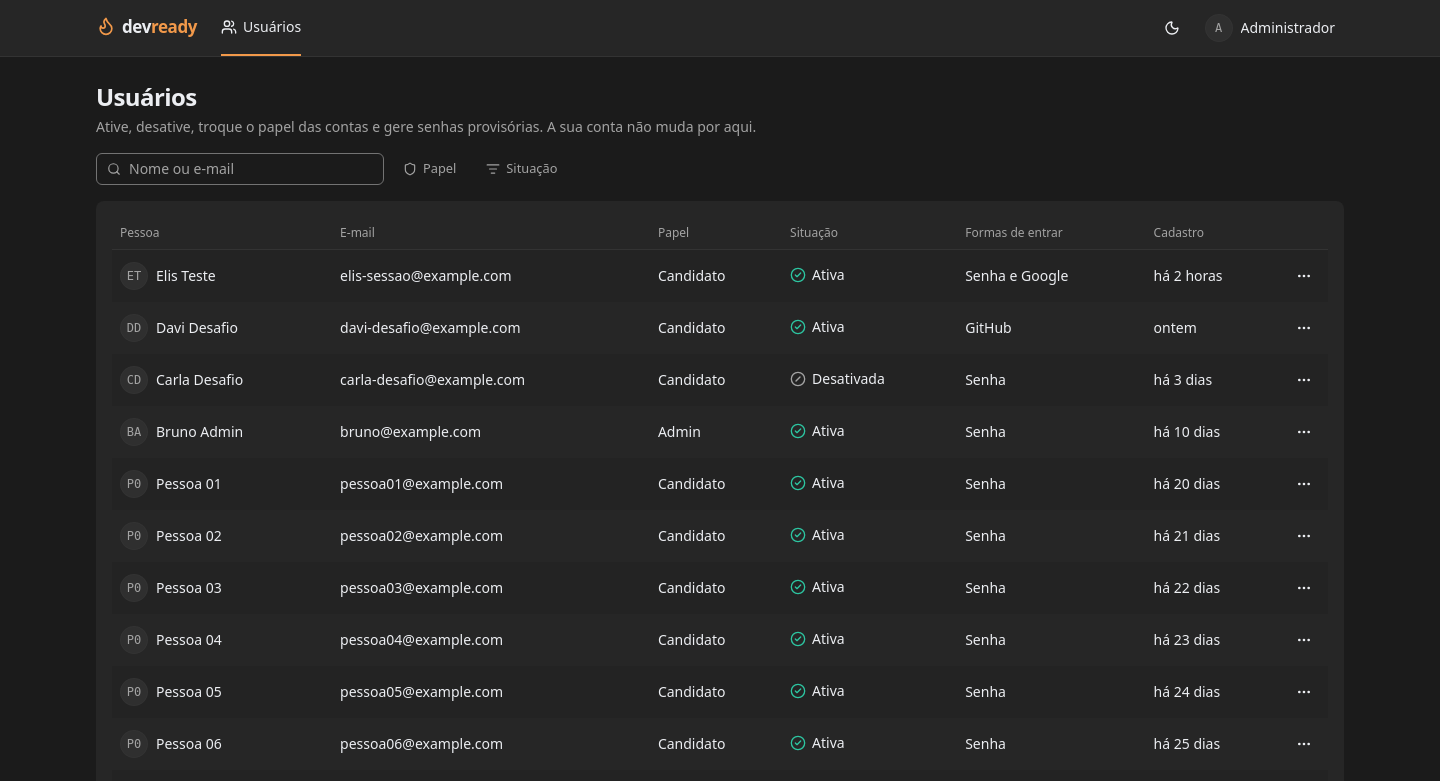
Test: senha provisória na gestão de usuários › sem acesso à área de transferência, pede para copiar à mão
The width and height of the screenshot is (1440, 781).
Click the button named "Ações para Elis Teste": (1304, 276) top-left (1288, 260), bottom-right (1320, 292)
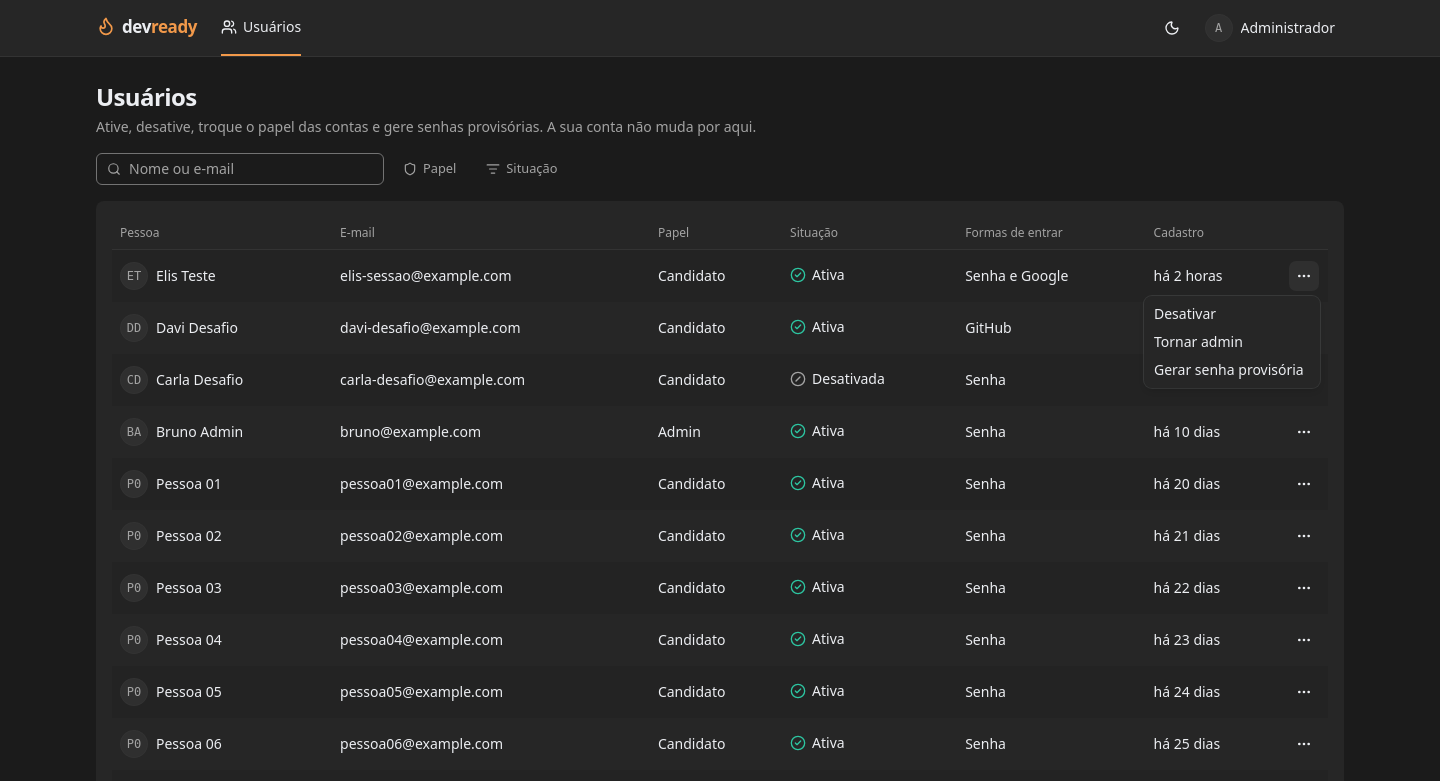
Click the menu item "Gerar senha provisória": (1232, 370) top-left (1148, 356), bottom-right (1316, 384)
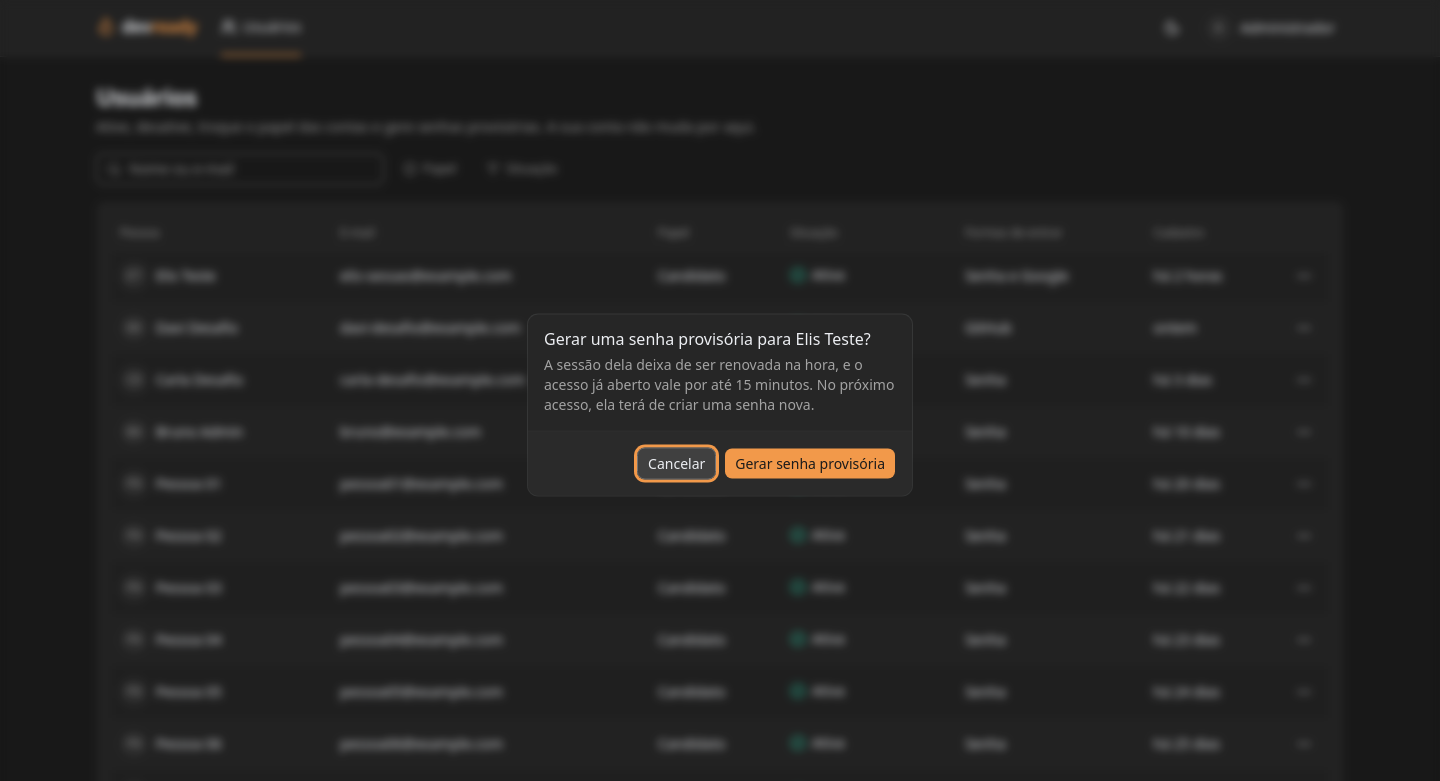
Click the button "Gerar senha provisória": (810, 464) top-left (724, 448), bottom-right (896, 480)
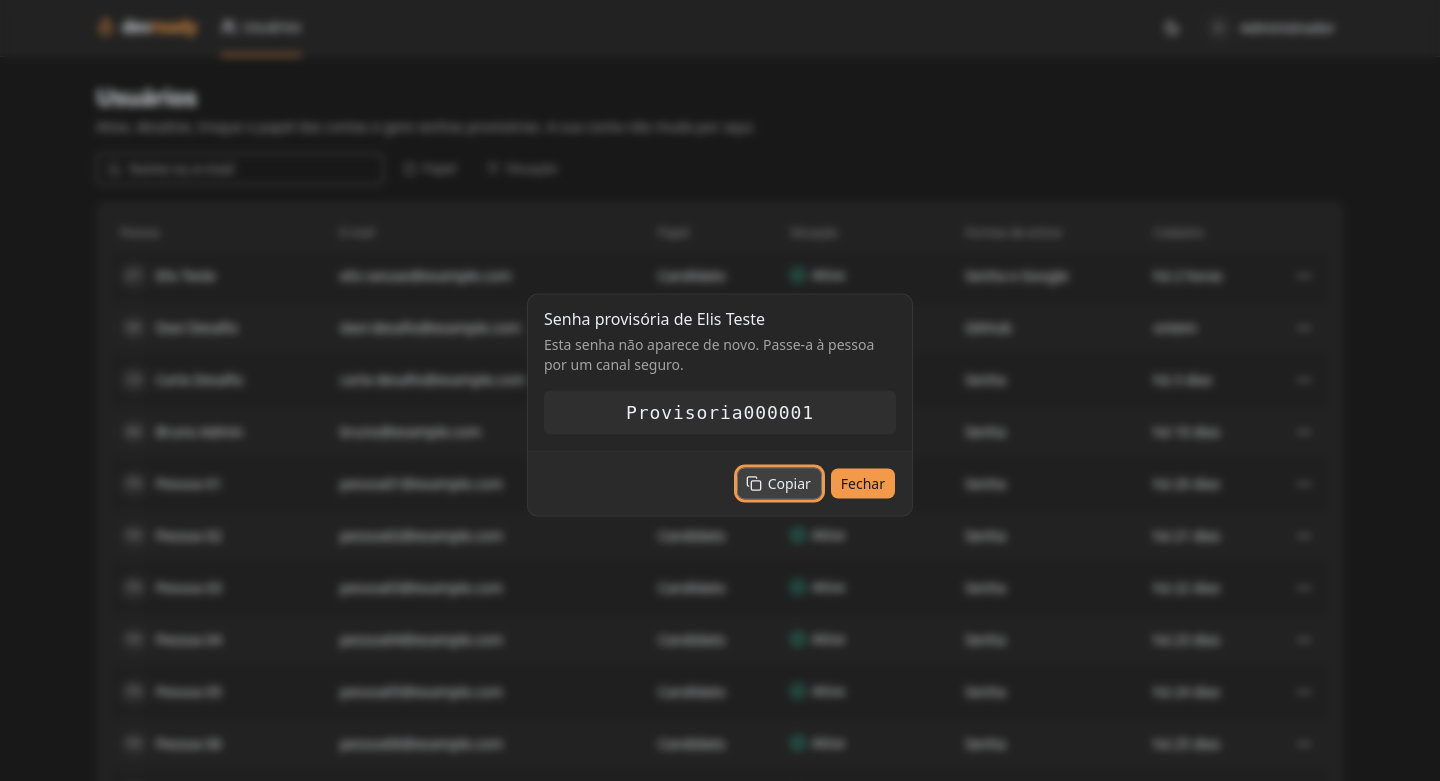
Click the button "Copiar": (779, 484) top-left (737, 468), bottom-right (822, 500)
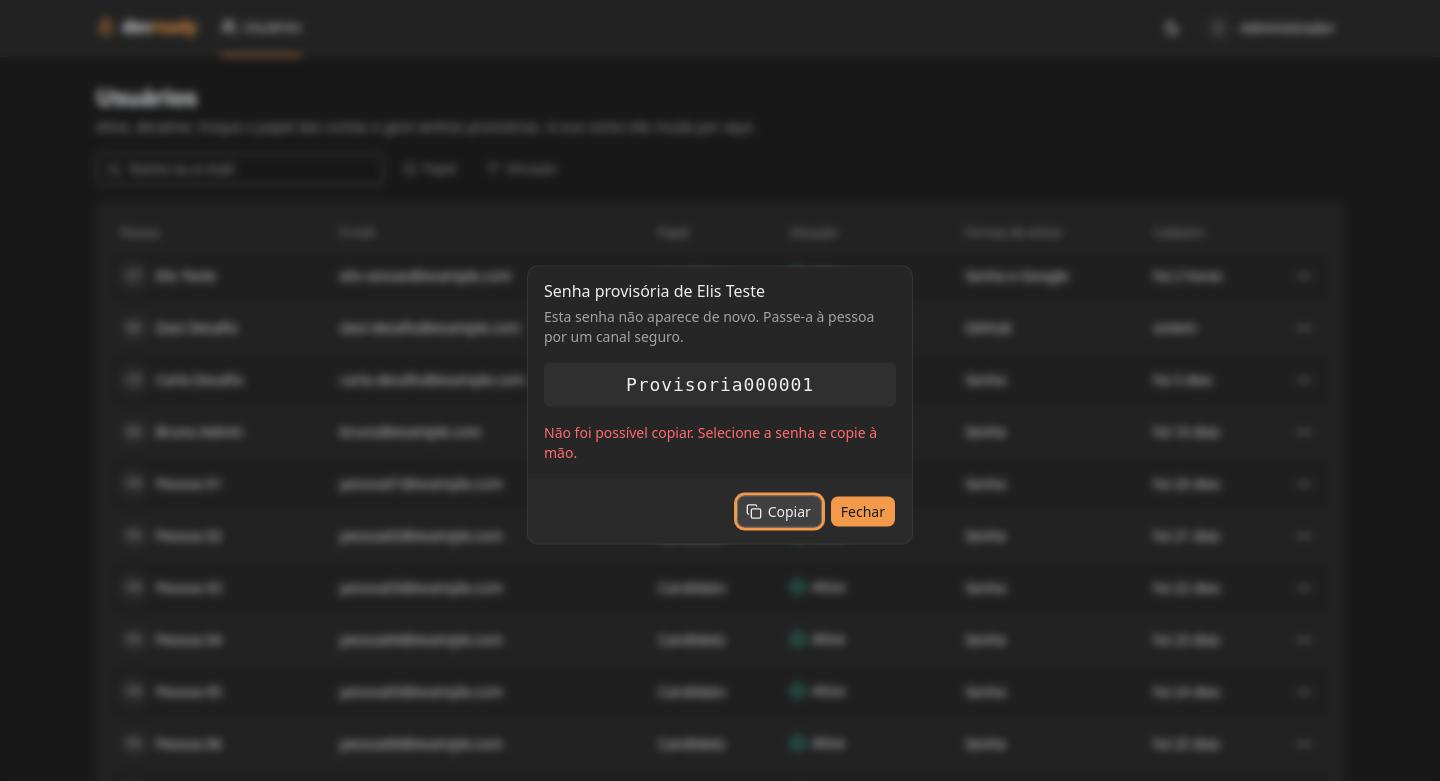
expect the button "Copiar" is shown: met, box top-left (737, 496), bottom-right (822, 528)
expect the text "Não foi possível copiar. Selecione a senha e copie à mão." is shown: met, box top-left (544, 422), bottom-right (896, 462)
